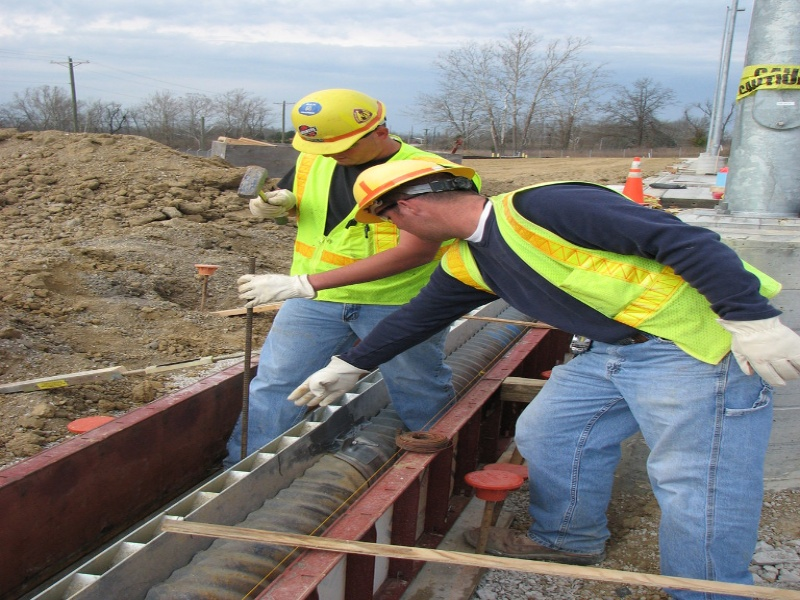helmet: (290, 86, 387, 160), (348, 158, 475, 208)
jacket: (480, 190, 749, 361), (295, 146, 426, 303)
